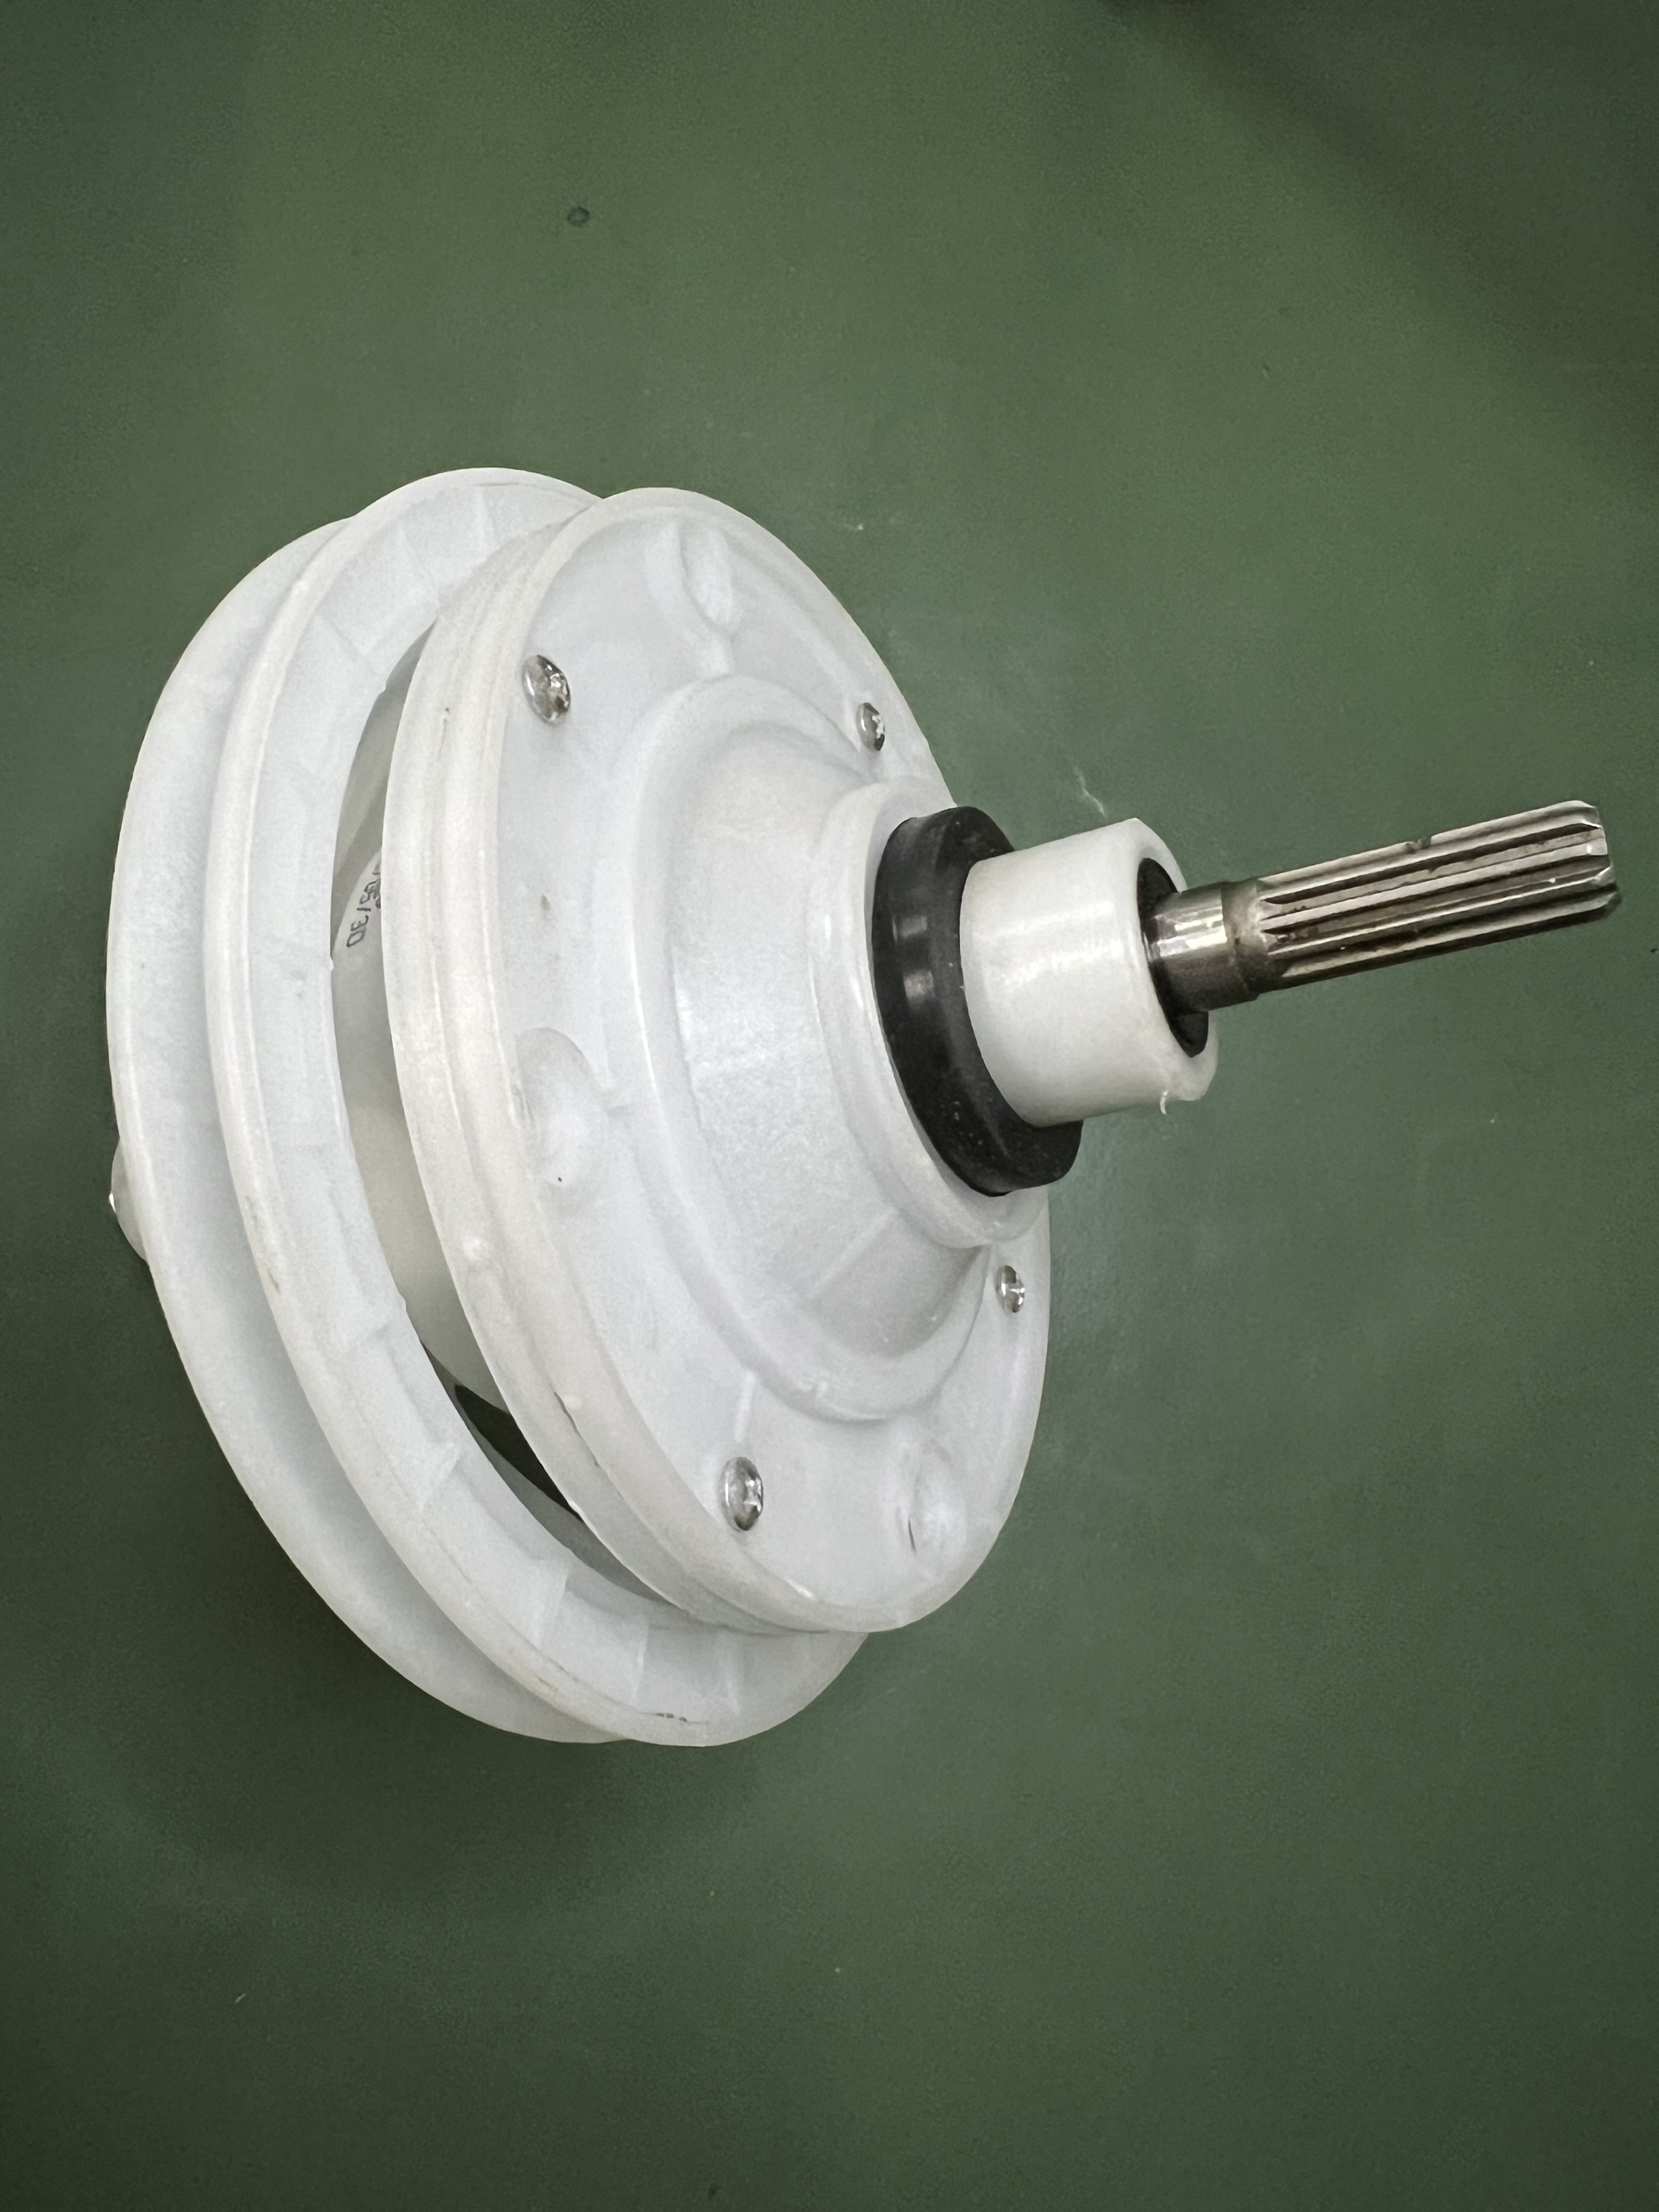gear_box_circle: (96, 456, 1617, 1757)
